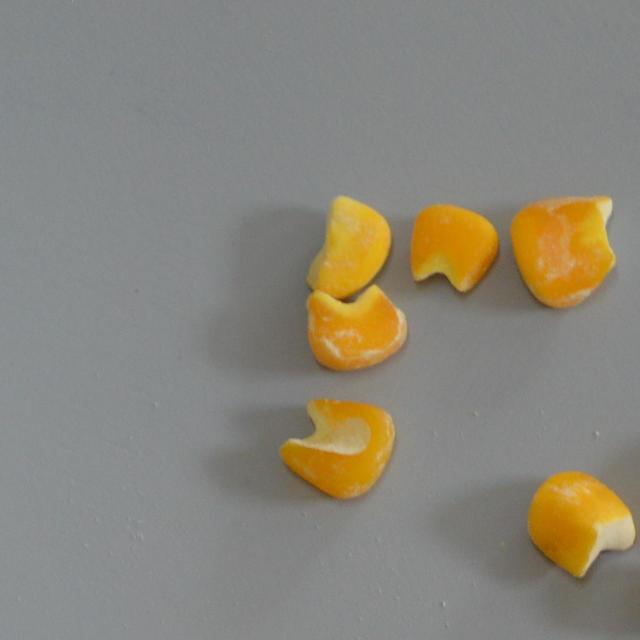no_canjicado: (302, 194, 392, 298), (409, 200, 500, 294)
pelicula: (507, 194, 618, 311), (280, 394, 396, 500), (526, 469, 636, 578), (303, 284, 407, 370)
